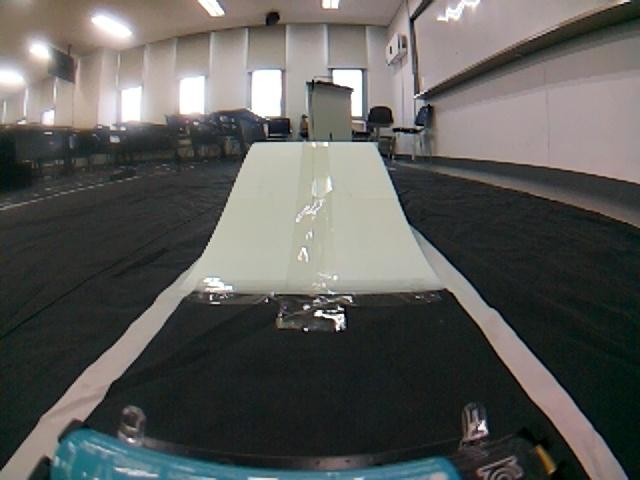hill_up: (3, 133, 630, 302)
straight: (0, 271, 632, 477)
